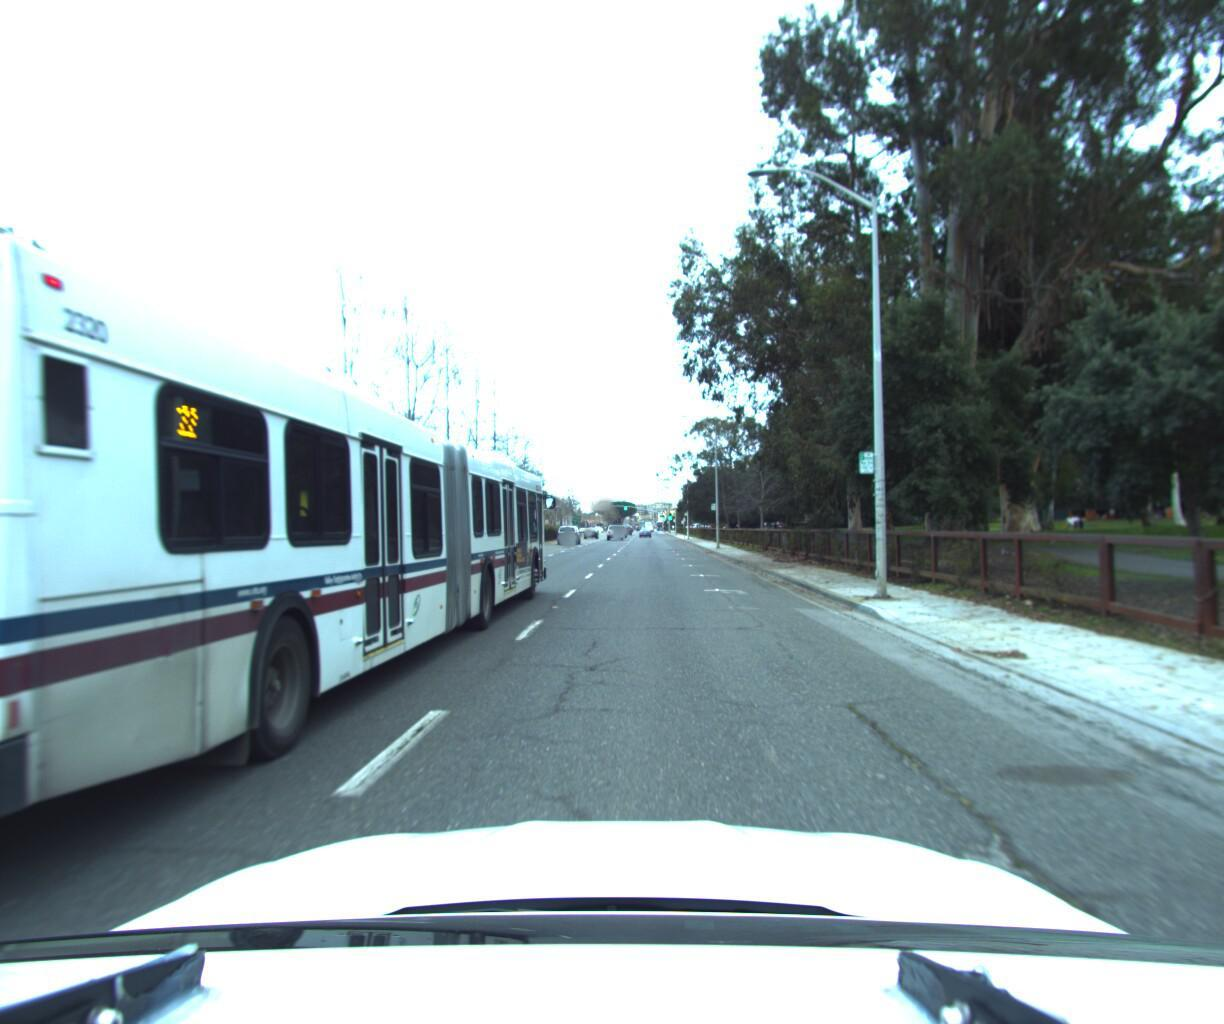bus: (0, 91, 554, 984)
car: (557, 521, 586, 544)
